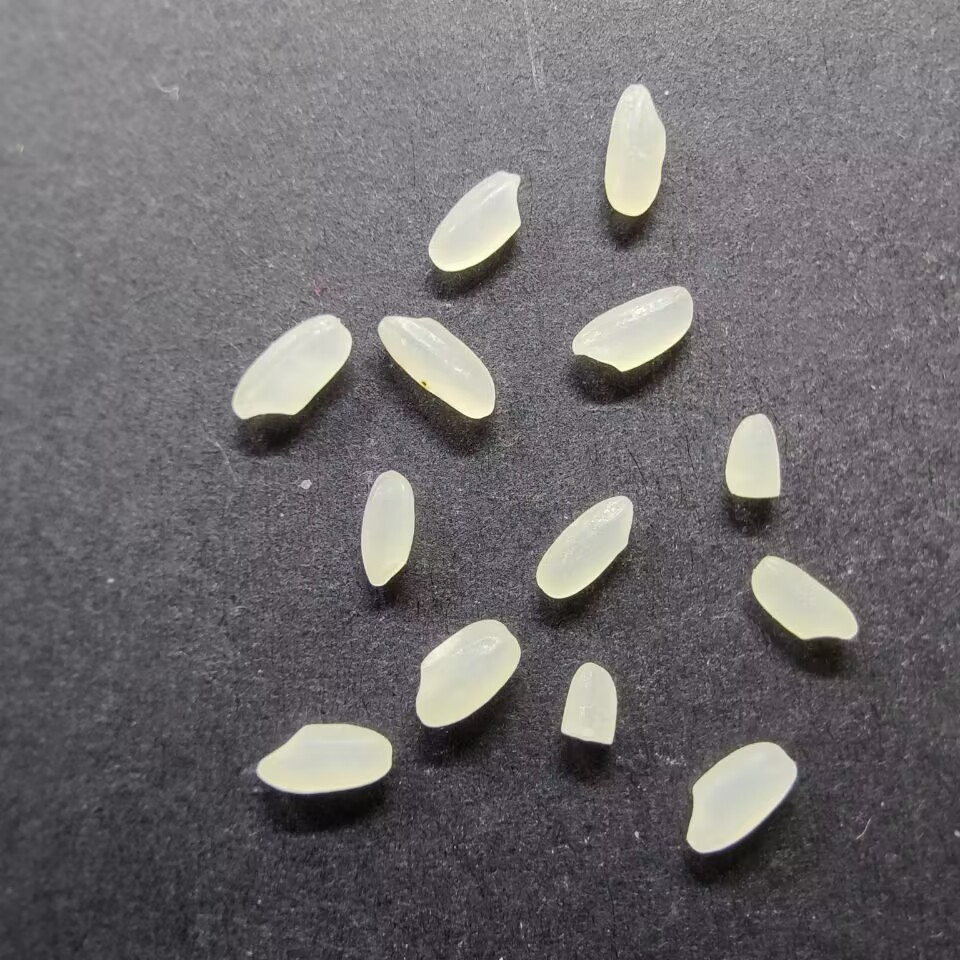broken: (560, 661, 618, 748), (724, 412, 781, 499)
rice: (231, 312, 352, 422), (684, 740, 799, 855), (376, 314, 498, 419), (413, 617, 522, 729), (533, 493, 637, 601), (570, 284, 694, 374), (425, 167, 523, 274), (748, 552, 859, 641), (255, 724, 393, 793), (603, 82, 666, 217), (361, 468, 416, 588)
